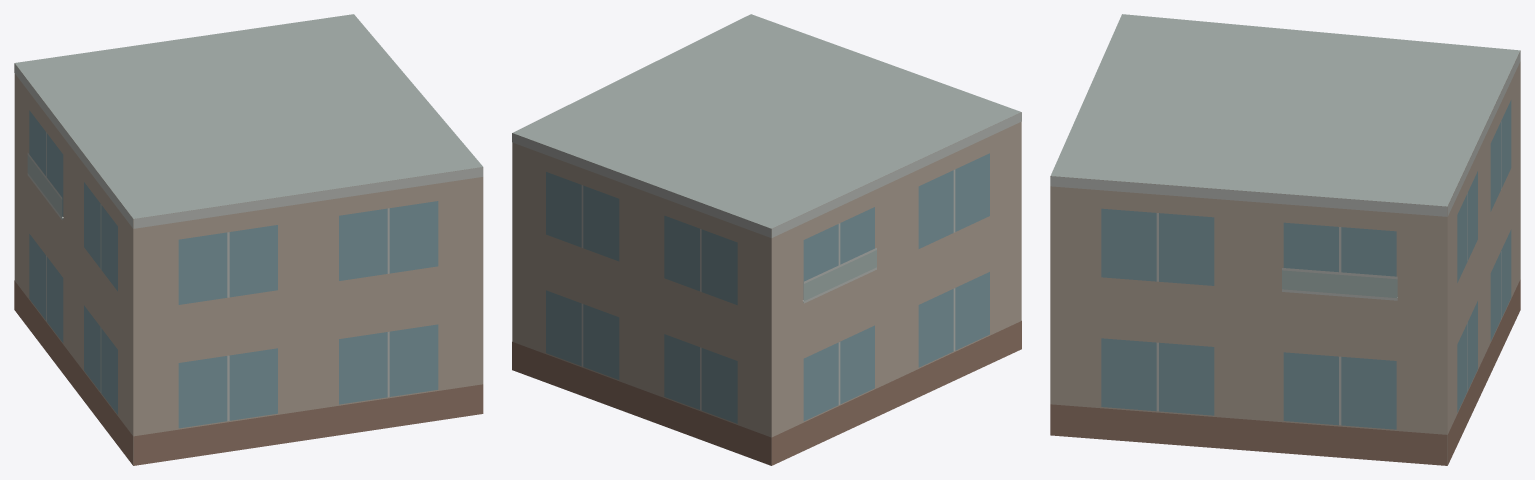
Rendered from survey-upis-33043512.glb.
3 renders of one model, left to right at view 1: azimuth 30°, elevation 25°; view 2: azimuth 150°, elevation 25°; view 3: azimuth 270°, elevation 25°, orthographic. The views are drawn at different scales.
Visible parts, largest first — view 1: survey-upis-33043512.tmp; view 2: survey-upis-33043512.tmp; view 3: survey-upis-33043512.tmp.
Part boxes in pixels (box(x1,y1,x2,y2)): survey-upis-33043512.tmp: box(14, 14, 483, 465); survey-upis-33043512.tmp: box(512, 14, 1021, 465); survey-upis-33043512.tmp: box(1050, 14, 1520, 465).
Bounding box in the file's own units: 9.72 × 6.1 × 10.03.
